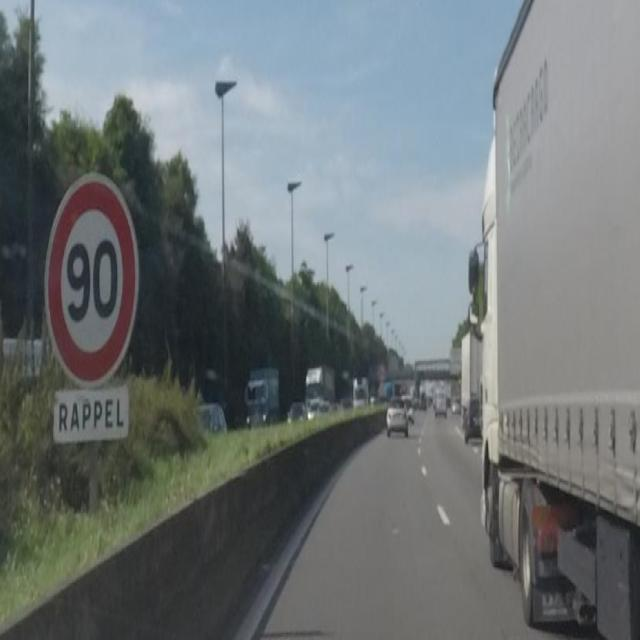speed_90: (45, 171, 138, 384)
